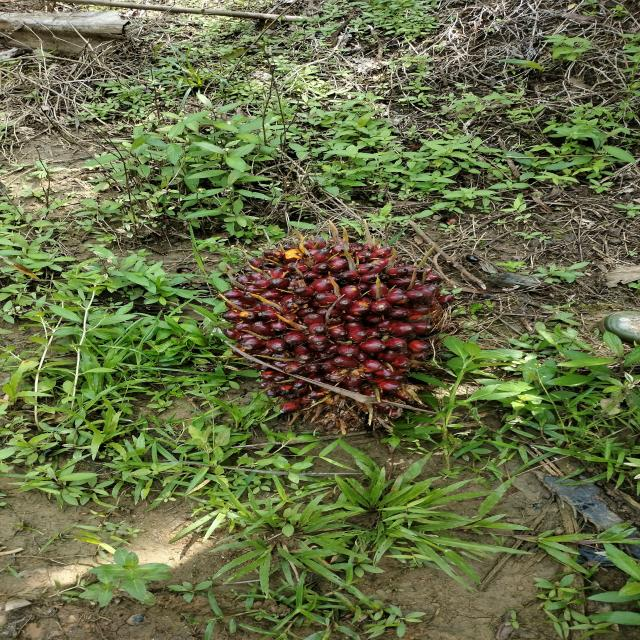fraksi 1: (185, 214, 524, 475)
